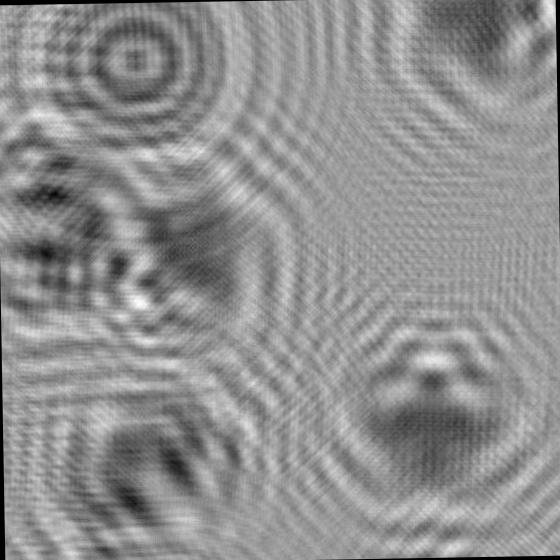K: (293, 284, 560, 560), (61, 114, 316, 395), (349, 0, 558, 172)
M: (1, 323, 302, 560), (0, 114, 150, 377)
O: (0, 0, 293, 219)
